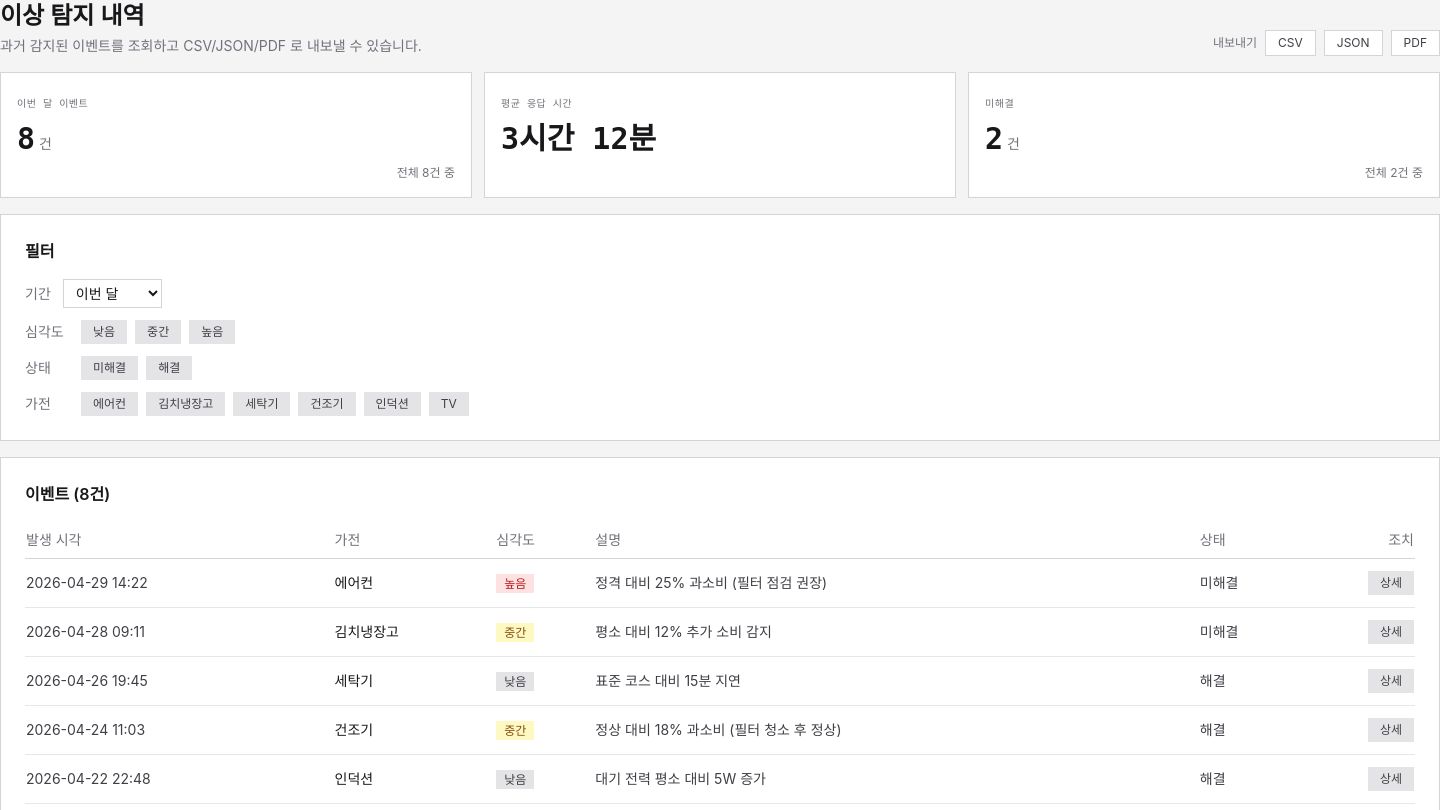
AnomalyLogPage › status '미해결' pill filters down to 2 open rows + unresolved KPI updates
The width and height of the screenshot is (1440, 810).
Expected: the heading "이벤트 (8건)" is shown, [25, 484, 110, 504]
What coordinates should you click on to do the following:
click the button "미해결"
I would click on:
 (110, 368)
Its box is [81, 356, 138, 380].
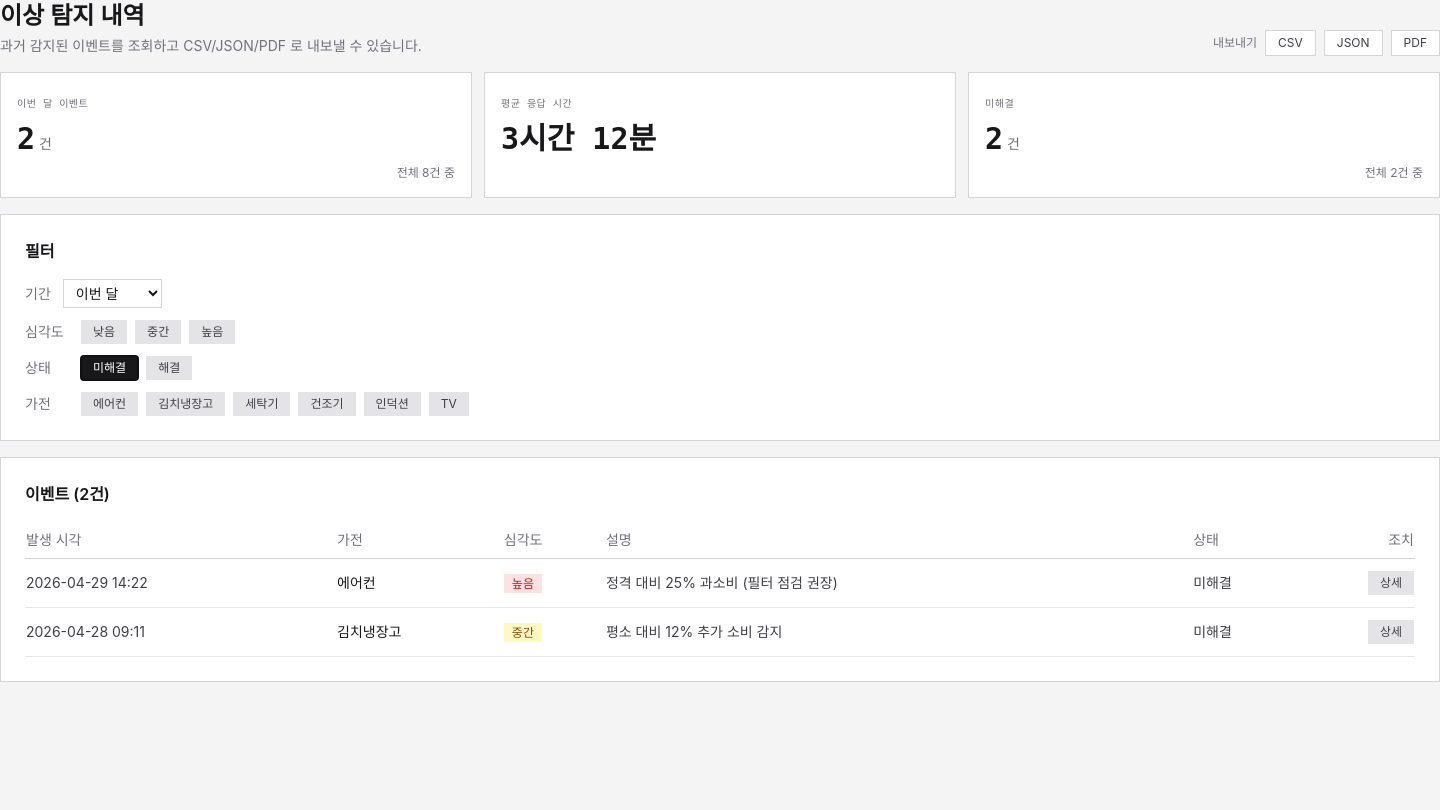
Expected: the heading "이벤트 (2건)" is shown, [25, 484, 110, 504]
